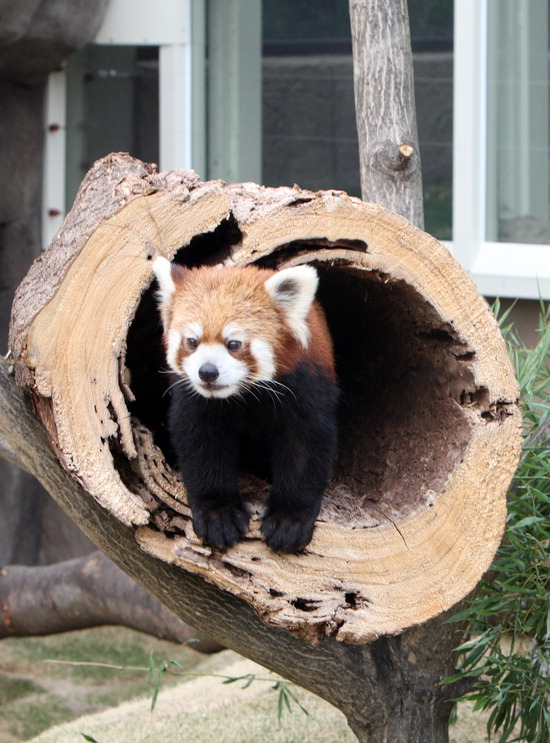redPanda: (148, 235, 353, 565)
